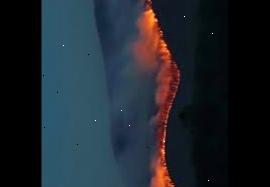fire: (151, 81, 206, 187), (129, 0, 187, 77)
